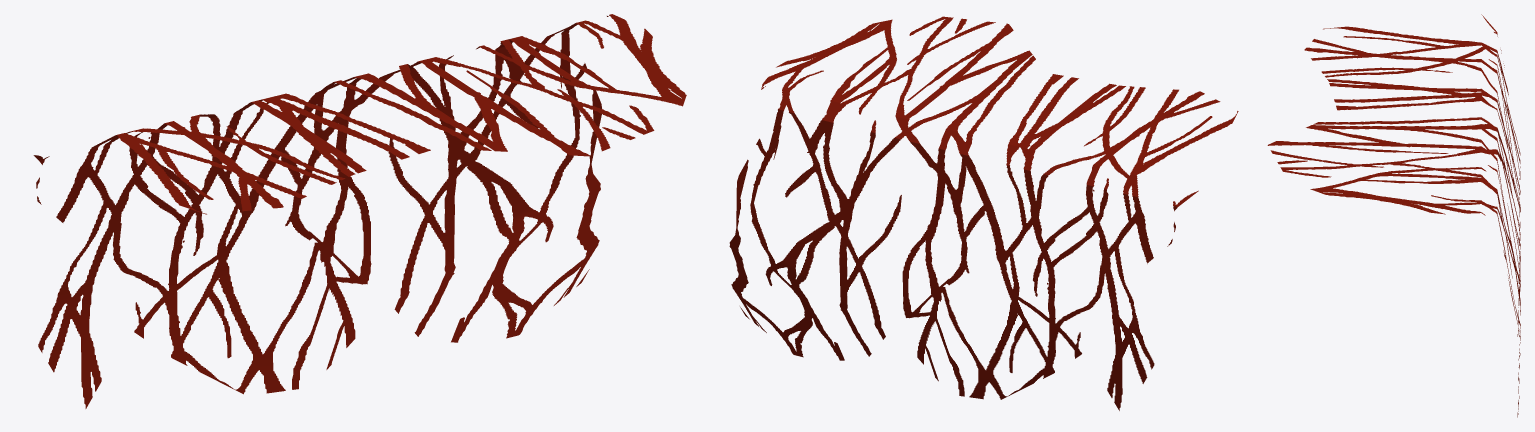
The model's file is Lo-Sha_Coral2.fbx.
The picture shows the model from 3 angles, left to right: view 1: azimuth 30°, elevation 25°; view 2: azimuth 150°, elevation 25°; view 3: azimuth 270°, elevation 25°; orthographic projection. The views are drawn at different scales.
Visible parts, largest first — view 1: Coral2; view 2: Coral2; view 3: Coral2.
Part boxes in pixels (left/top/right/bottom): Coral2: left=33, top=14, right=686, bottom=408; Coral2: left=729, top=16, right=1238, bottom=410; Coral2: left=1267, top=14, right=1520, bottom=417.
Bounding box in the file's own units: 58.87 × 31.24 × 30.19.
1 material, 1 textured.
